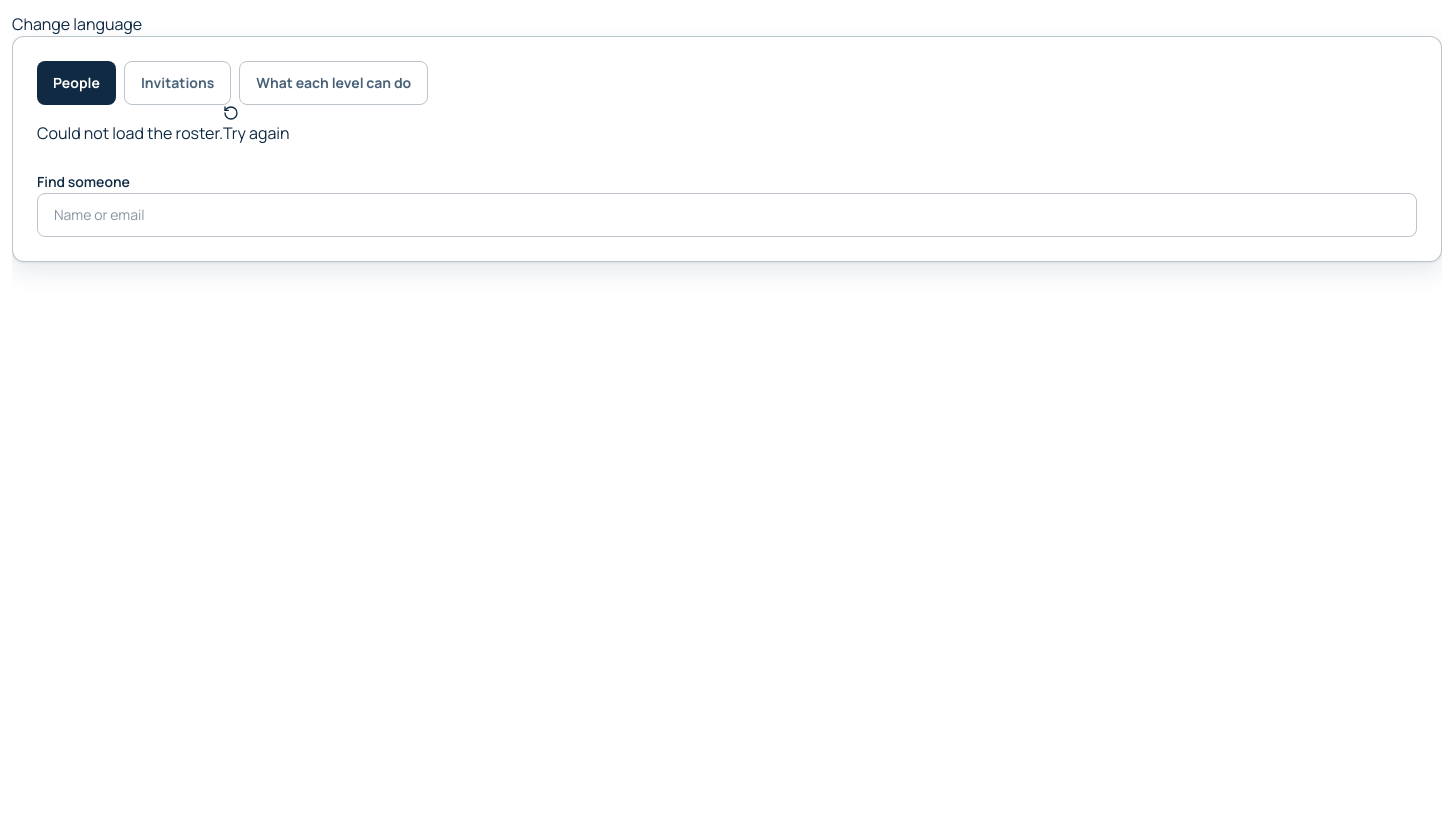
Test case: RoleManager › does not attach a failed roster read to the independent permission matrix
Expected: the message "Could not load the roster. Try again" is shown, [37,105,290,145]
Click the button "What each level can do". click: (334, 83)
box: [239,61,428,105]
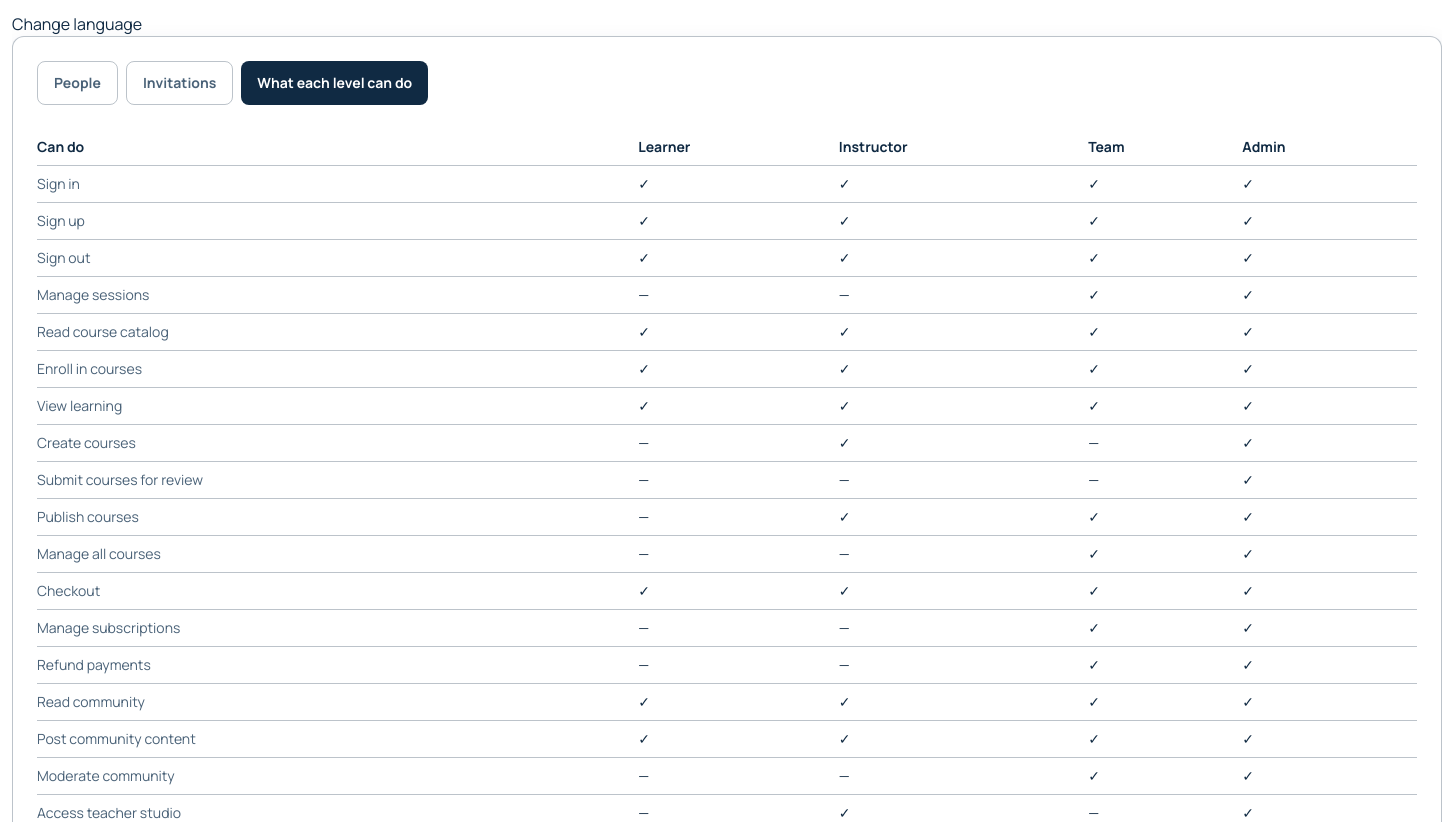
Result: the message "Could not load the roster. Try again" is gone
Result: the button "Try again" is gone
Click the button "People". click: (77, 83)
box: [37,61,118,105]
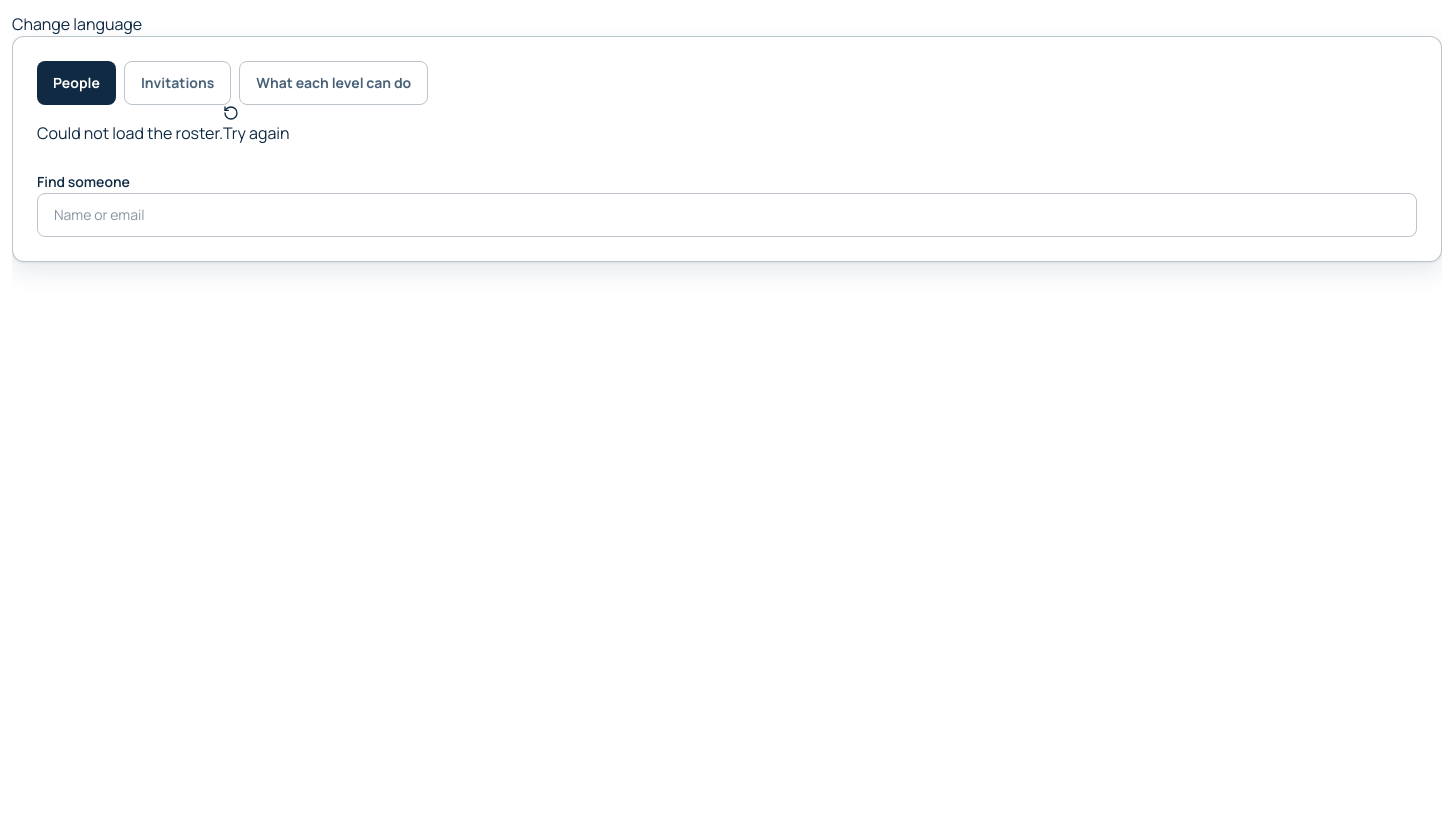
Result: the message shows "Could not load the roster." at [37,122,223,144]
